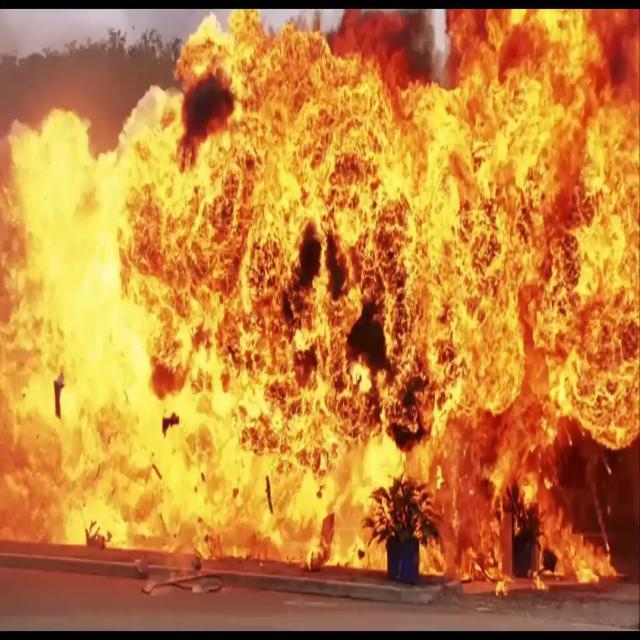fire: (1, 9, 637, 586)
